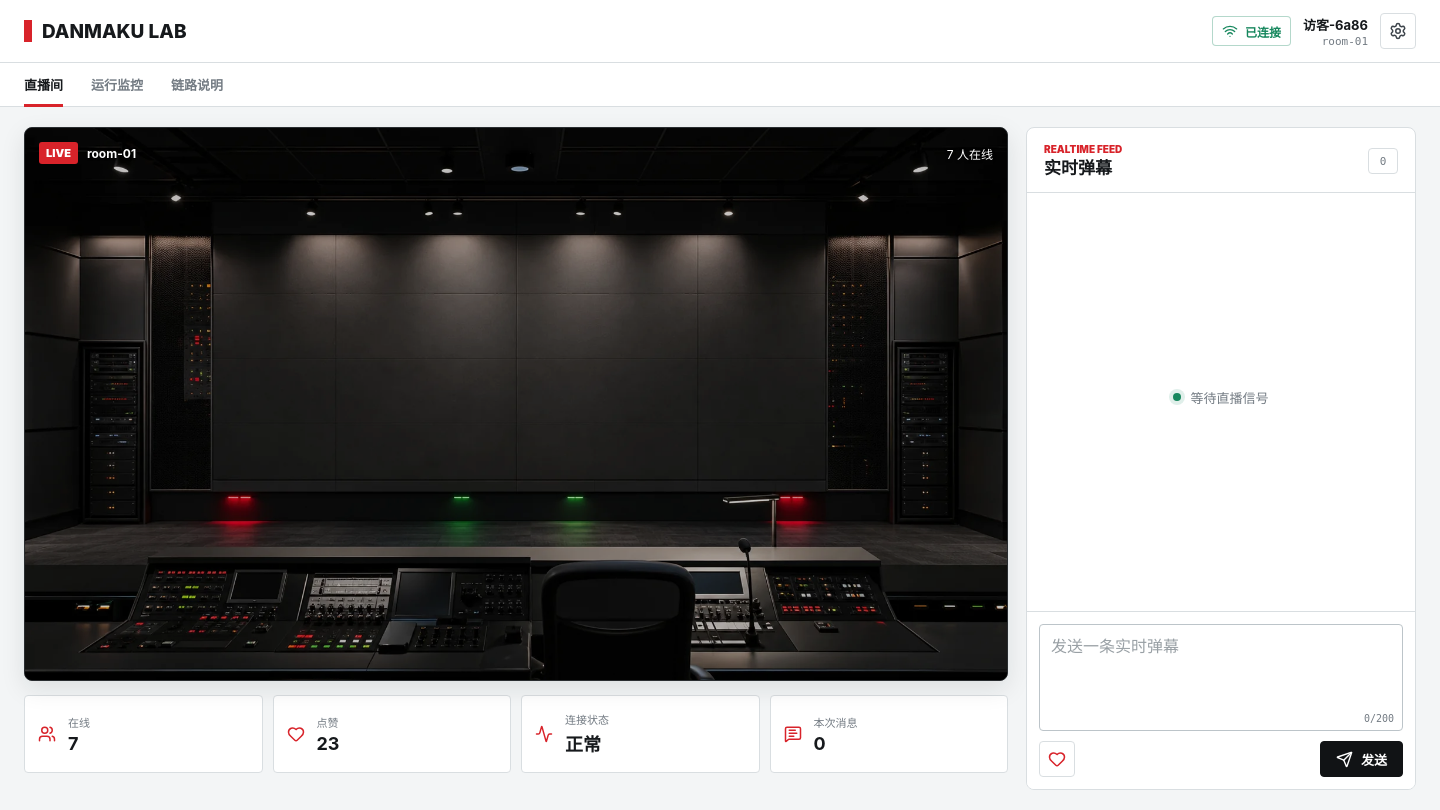
Scenario: App › uses the approved accessible labels when switching rooms
The width and height of the screenshot is (1440, 810).
Click the button named "更换房间".
click(1398, 31)  # box [1380,13,1416,49]
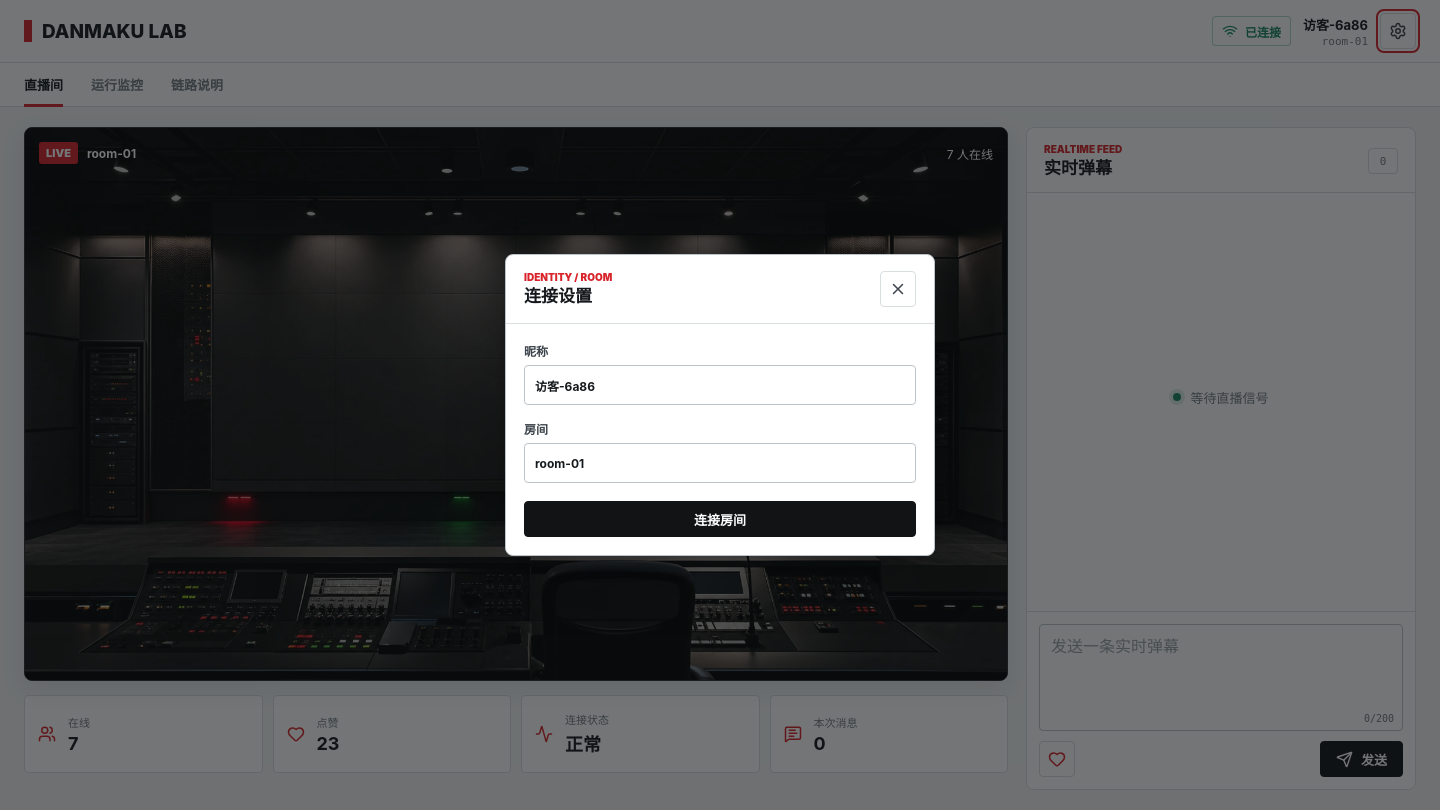
Expected: the field labelled "昵称" is shown, [524,365,916,405]
Expected: the field labelled "房间" is shown, [524,443,916,483]
Expected: the button "连接房间" is shown, [524,501,916,537]
